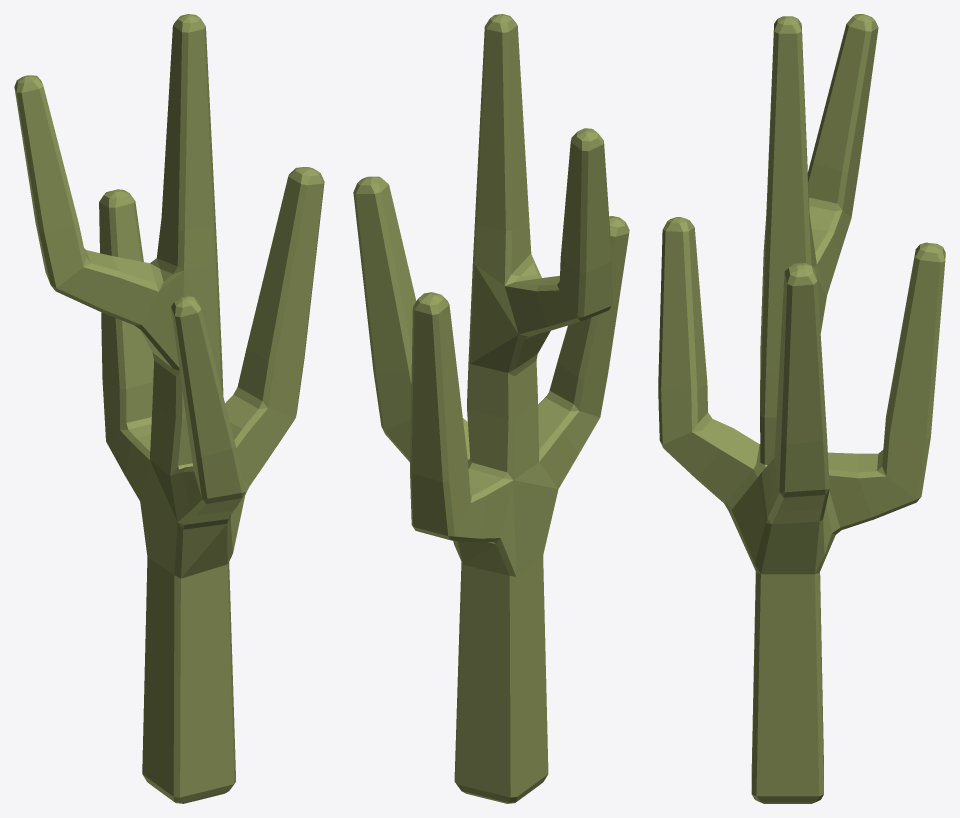
File: cactus_1.fbx
The picture shows the model from 3 angles, left to right: view 1: azimuth 30°, elevation 25°; view 2: azimuth 150°, elevation 25°; view 3: azimuth 270°, elevation 25°; orthographic projection.
Visible parts, largest first — view 1: cactus1; view 2: cactus1; view 3: cactus1.
Part boxes in pixels (x1=…): cactus1: x1=14, y1=14, x2=324, y2=803; cactus1: x1=353, y1=14, x2=629, y2=803; cactus1: x1=658, y1=14, x2=945, y2=803.
Size of the model in its own units: 0.9423 by 0.8522 by 2.54.
